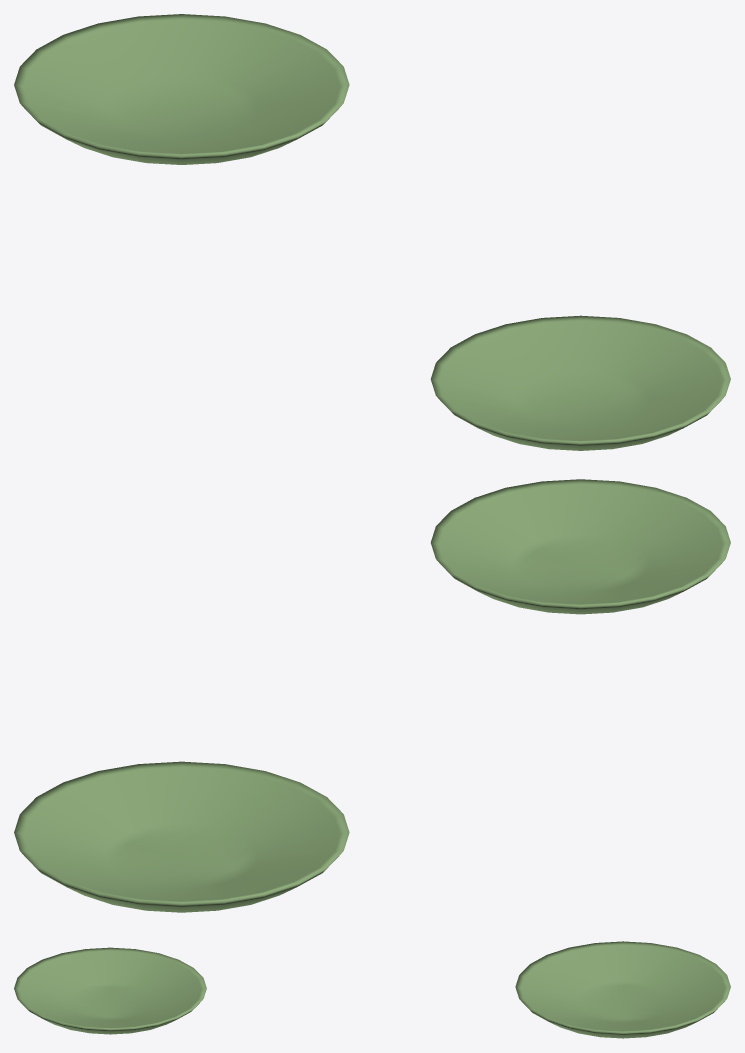
Rendered from Jar_Break_03A_Lod0.fbx.
3 renders of one model, top to bottom at view 1: azimuth 30°, elevation 25°; view 2: azimuth 150°, elevation 25°; view 3: azimuth 270°, elevation 25°, orthographic. The views are drawn at different scales.
Visible parts, largest first — view 1: Jar_Break_03A_Lod0; view 2: Jar_Break_03A_Lod0; view 3: Jar_Break_03A_Lod0.
Part boxes in pixels (x1,y1,x2,y2): Jar_Break_03A_Lod0: [14, 14, 730, 450]; Jar_Break_03A_Lod0: [14, 479, 730, 912]; Jar_Break_03A_Lod0: [14, 941, 730, 1038].
Bounding box in the file's own units: 44.7 × 6.18 × 149.
